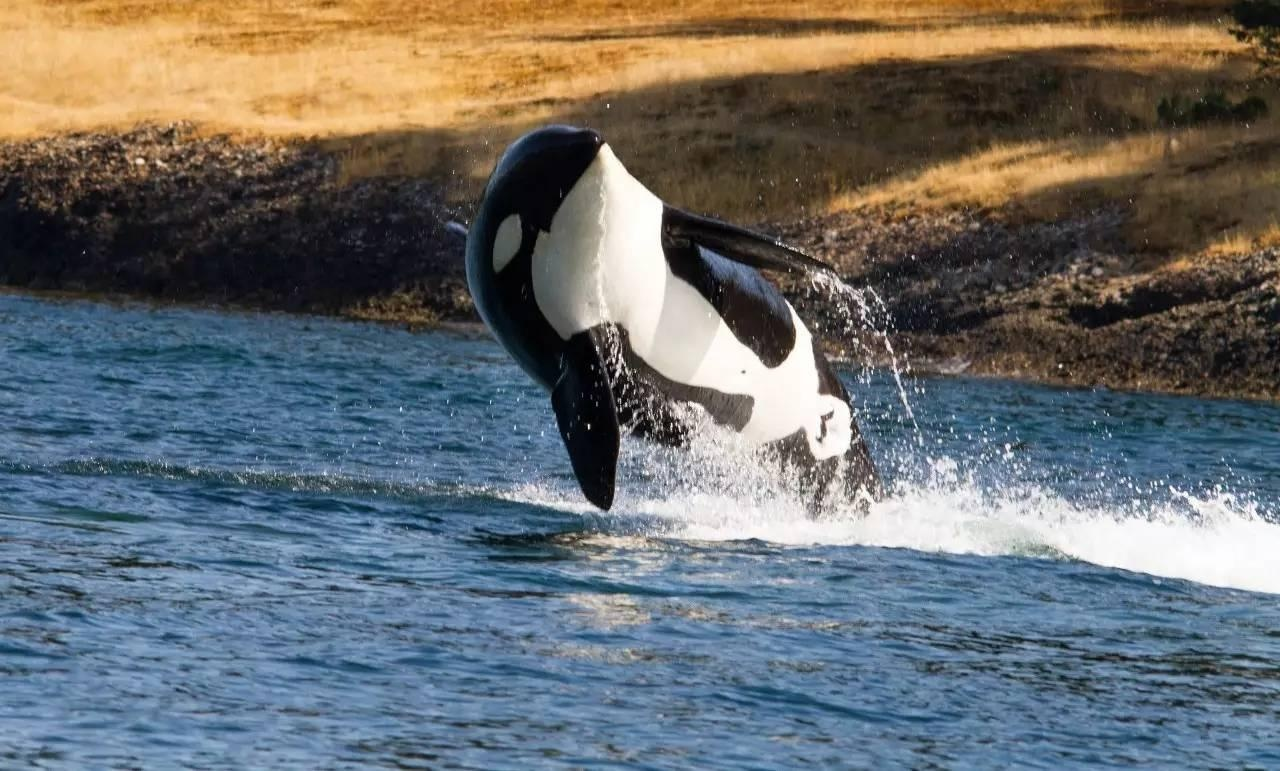fish: (457, 124, 933, 519)
